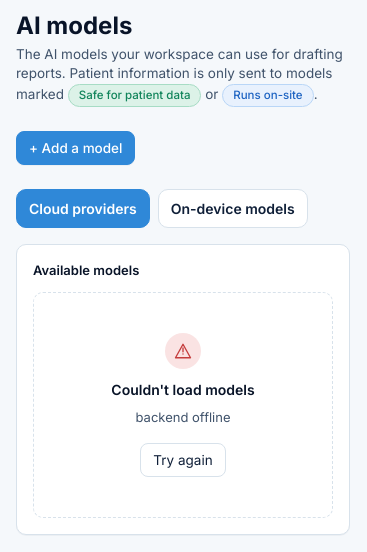
Test: providers page › renders a retryable error state when providers fail to load
Check: the text "Couldn't load models" is shown, box 111,381 -> 255,400
Check: the text "backend offline" is shown, box 136,408 -> 230,427
Click the button "Try again". click: coordinates (183, 460)
box: 140,443 -> 226,477
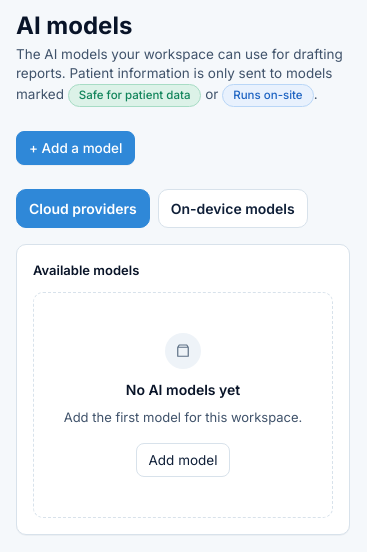
Check: the text "No AI models yet" is shown, box 126,381 -> 240,400
